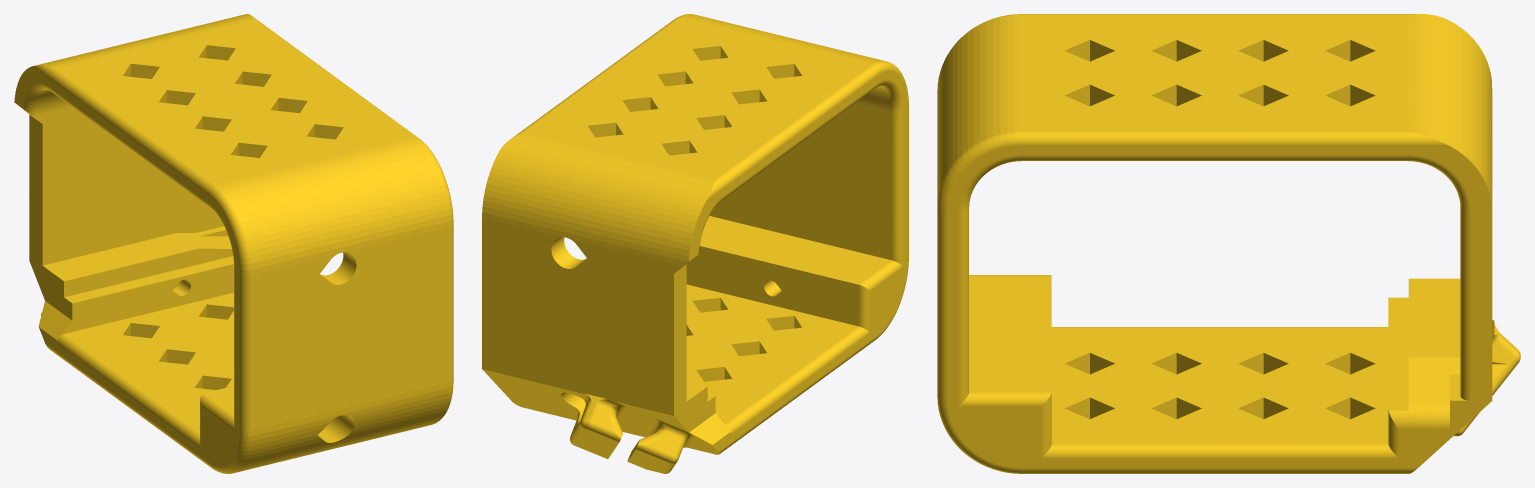
The model's file is motor_holder_so101_base_v1.glb.
3 renders of one model, left to right at view 1: azimuth 30°, elevation 25°; view 2: azimuth 150°, elevation 25°; view 3: azimuth 270°, elevation 25°, orthographic. The views are drawn at different scales.
Visible parts, largest first — view 1: motor_holder_so101_base_v1; view 2: motor_holder_so101_base_v1; view 3: motor_holder_so101_base_v1.
Boxes of the visible parts, left/top/right/bottom form: motor_holder_so101_base_v1: left=14, top=14, right=453, bottom=473; motor_holder_so101_base_v1: left=482, top=14, right=908, bottom=473; motor_holder_so101_base_v1: left=937, top=14, right=1520, bottom=473.
Size of the model in its own units: 0.028 by 0.0381 by 0.0551.
